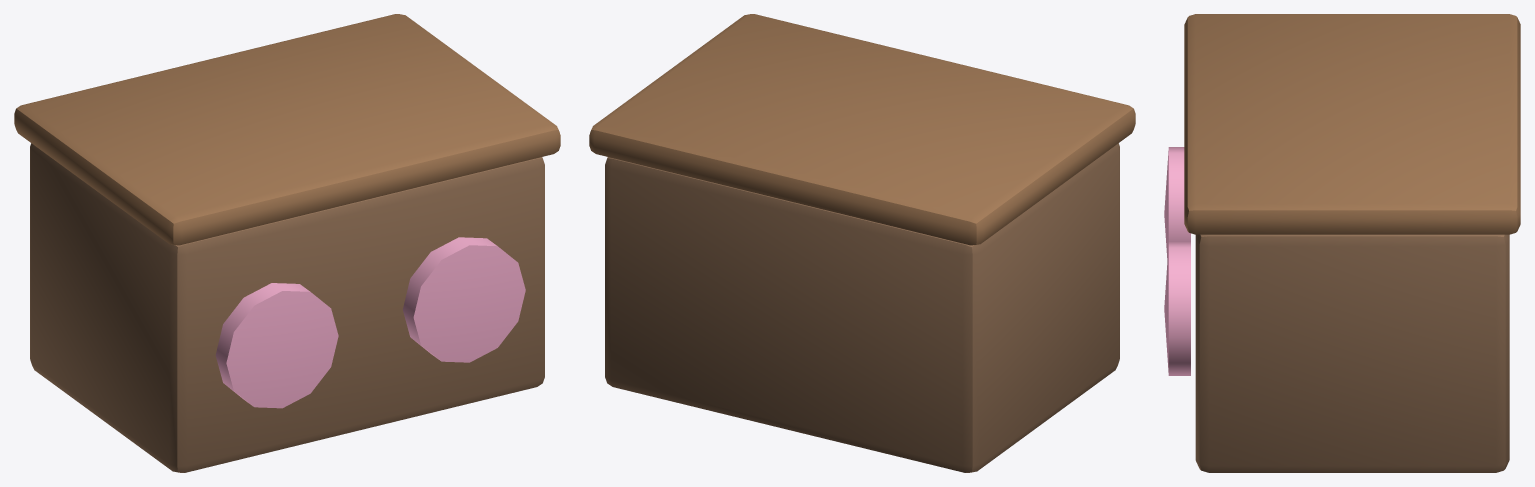
The model's file is CookieCrate_B.fbx.
3 views of the same model, side by side, from view 1: azimuth 30°, elevation 25°; view 2: azimuth 150°, elevation 25°; view 3: azimuth 270°, elevation 25° (orthographic). The views are drawn at different scales.
Visible parts, largest first — view 1: CookieCrate_B; view 2: CookieCrate_B; view 3: CookieCrate_B.
Part boxes in pixels (left/top/right/bottom): CookieCrate_B: left=14, top=14, right=560, bottom=472; CookieCrate_B: left=589, top=14, right=1135, bottom=472; CookieCrate_B: left=1164, top=14, right=1520, bottom=472.
Bounding box in the file's own units: 2.1 × 1.35 × 1.59.
